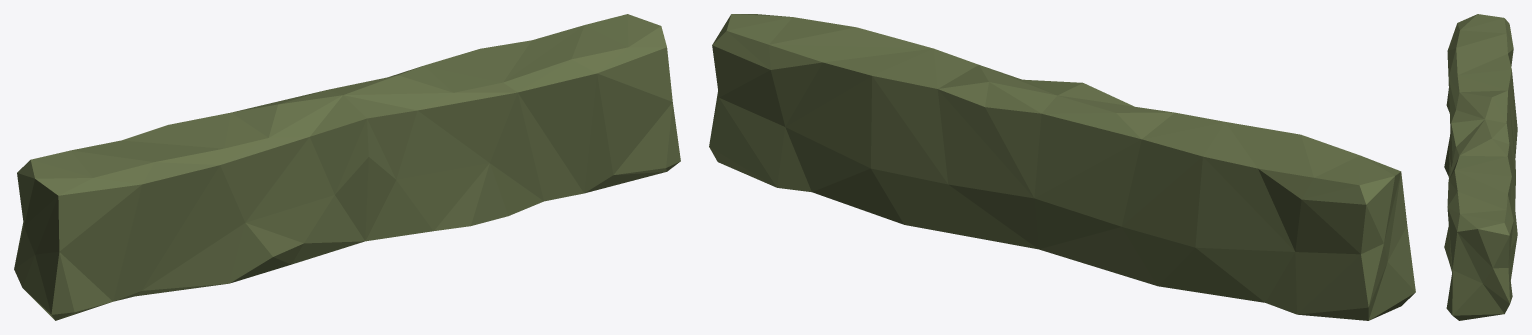
The model's file is SM_Envr_Nature_Plant_Bush_Fence.fbx.
The picture shows the model from 3 angles, left to right: view 1: azimuth 30°, elevation 25°; view 2: azimuth 150°, elevation 25°; view 3: azimuth 270°, elevation 25°; orthographic projection. The views are drawn at different scales.
Visible parts, largest first — view 1: SM_Envr_Nature_Plant_Bush_Fence; view 2: SM_Envr_Nature_Plant_Bush_Fence; view 3: SM_Envr_Nature_Plant_Bush_Fence.
Part boxes in pixels (x1,y1,x2,y2): SM_Envr_Nature_Plant_Bush_Fence: (14, 14, 680, 320); SM_Envr_Nature_Plant_Bush_Fence: (709, 14, 1415, 320); SM_Envr_Nature_Plant_Bush_Fence: (1444, 14, 1517, 320).
Size of the model in its own units: 505 by 108 by 72.49.
